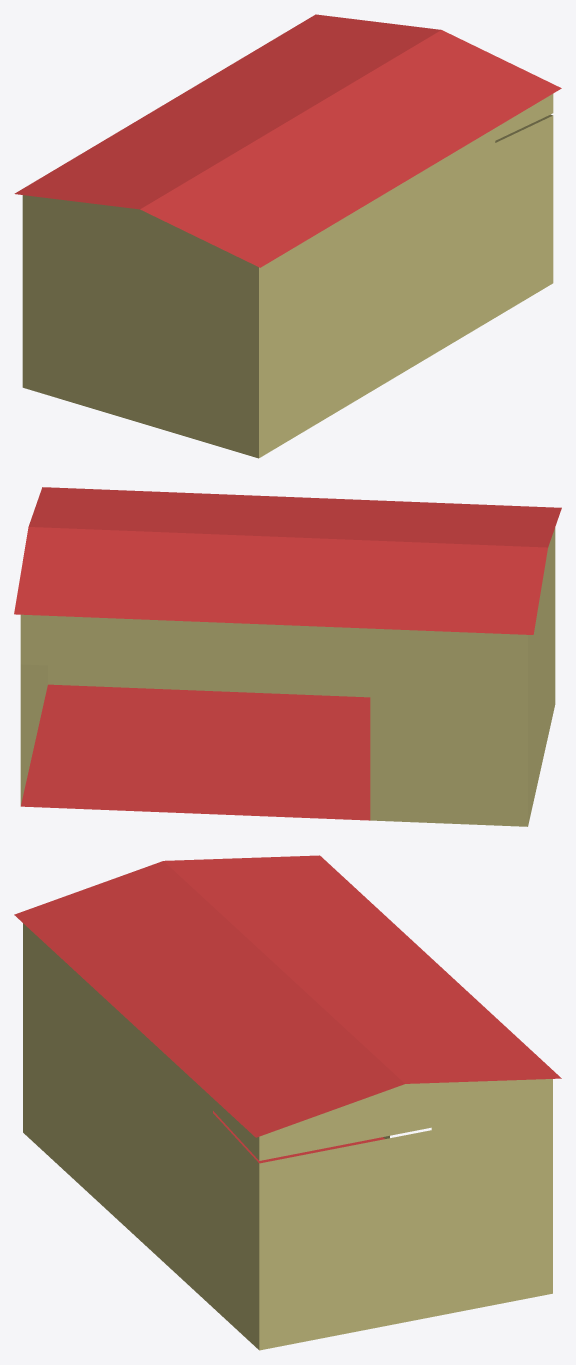
3 views of the same model, one above another, from view 1: azimuth 30°, elevation 25°; view 2: azimuth 150°, elevation 25°; view 3: azimuth 270°, elevation 25° (orthographic). The views are drawn at different scales.
Bounding box in the file's own units: 24.23 × 19.87 × 9.66.
